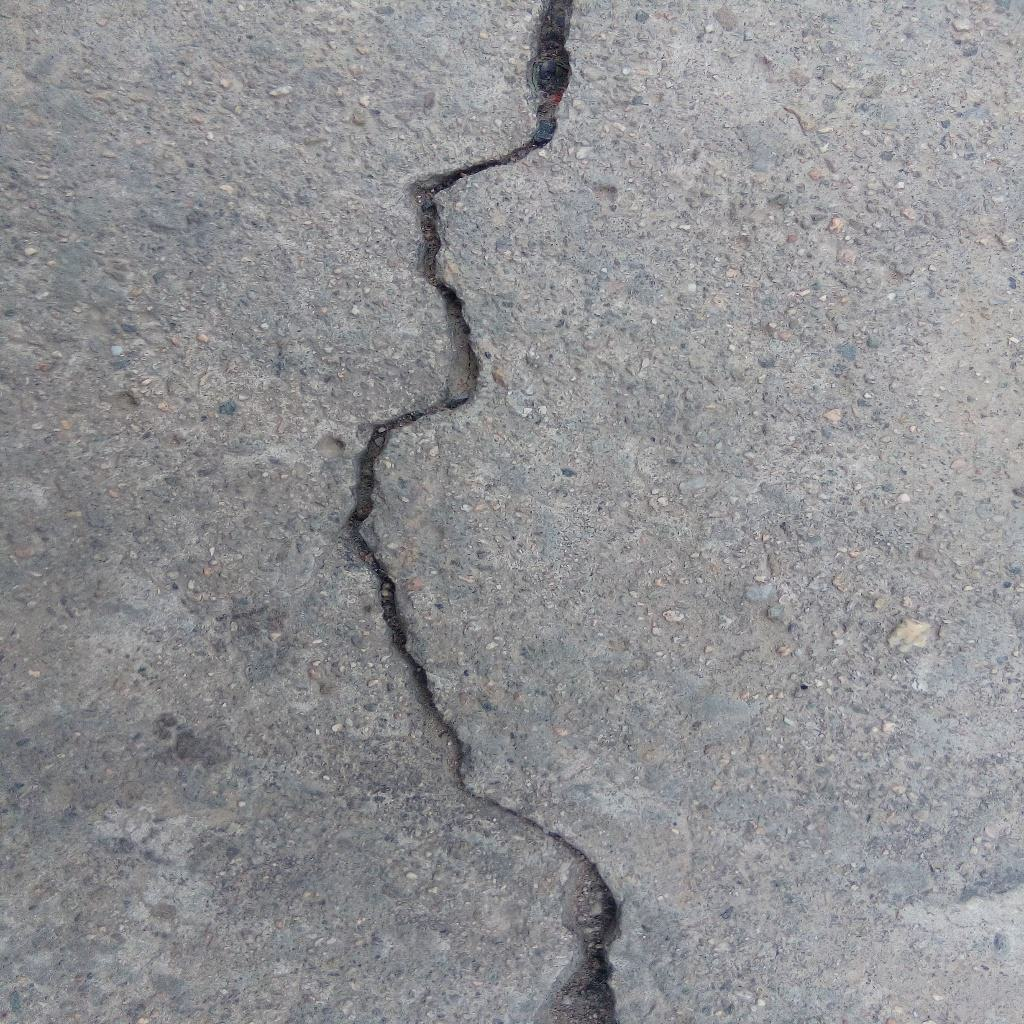Crack: (345, 1, 624, 1024)
